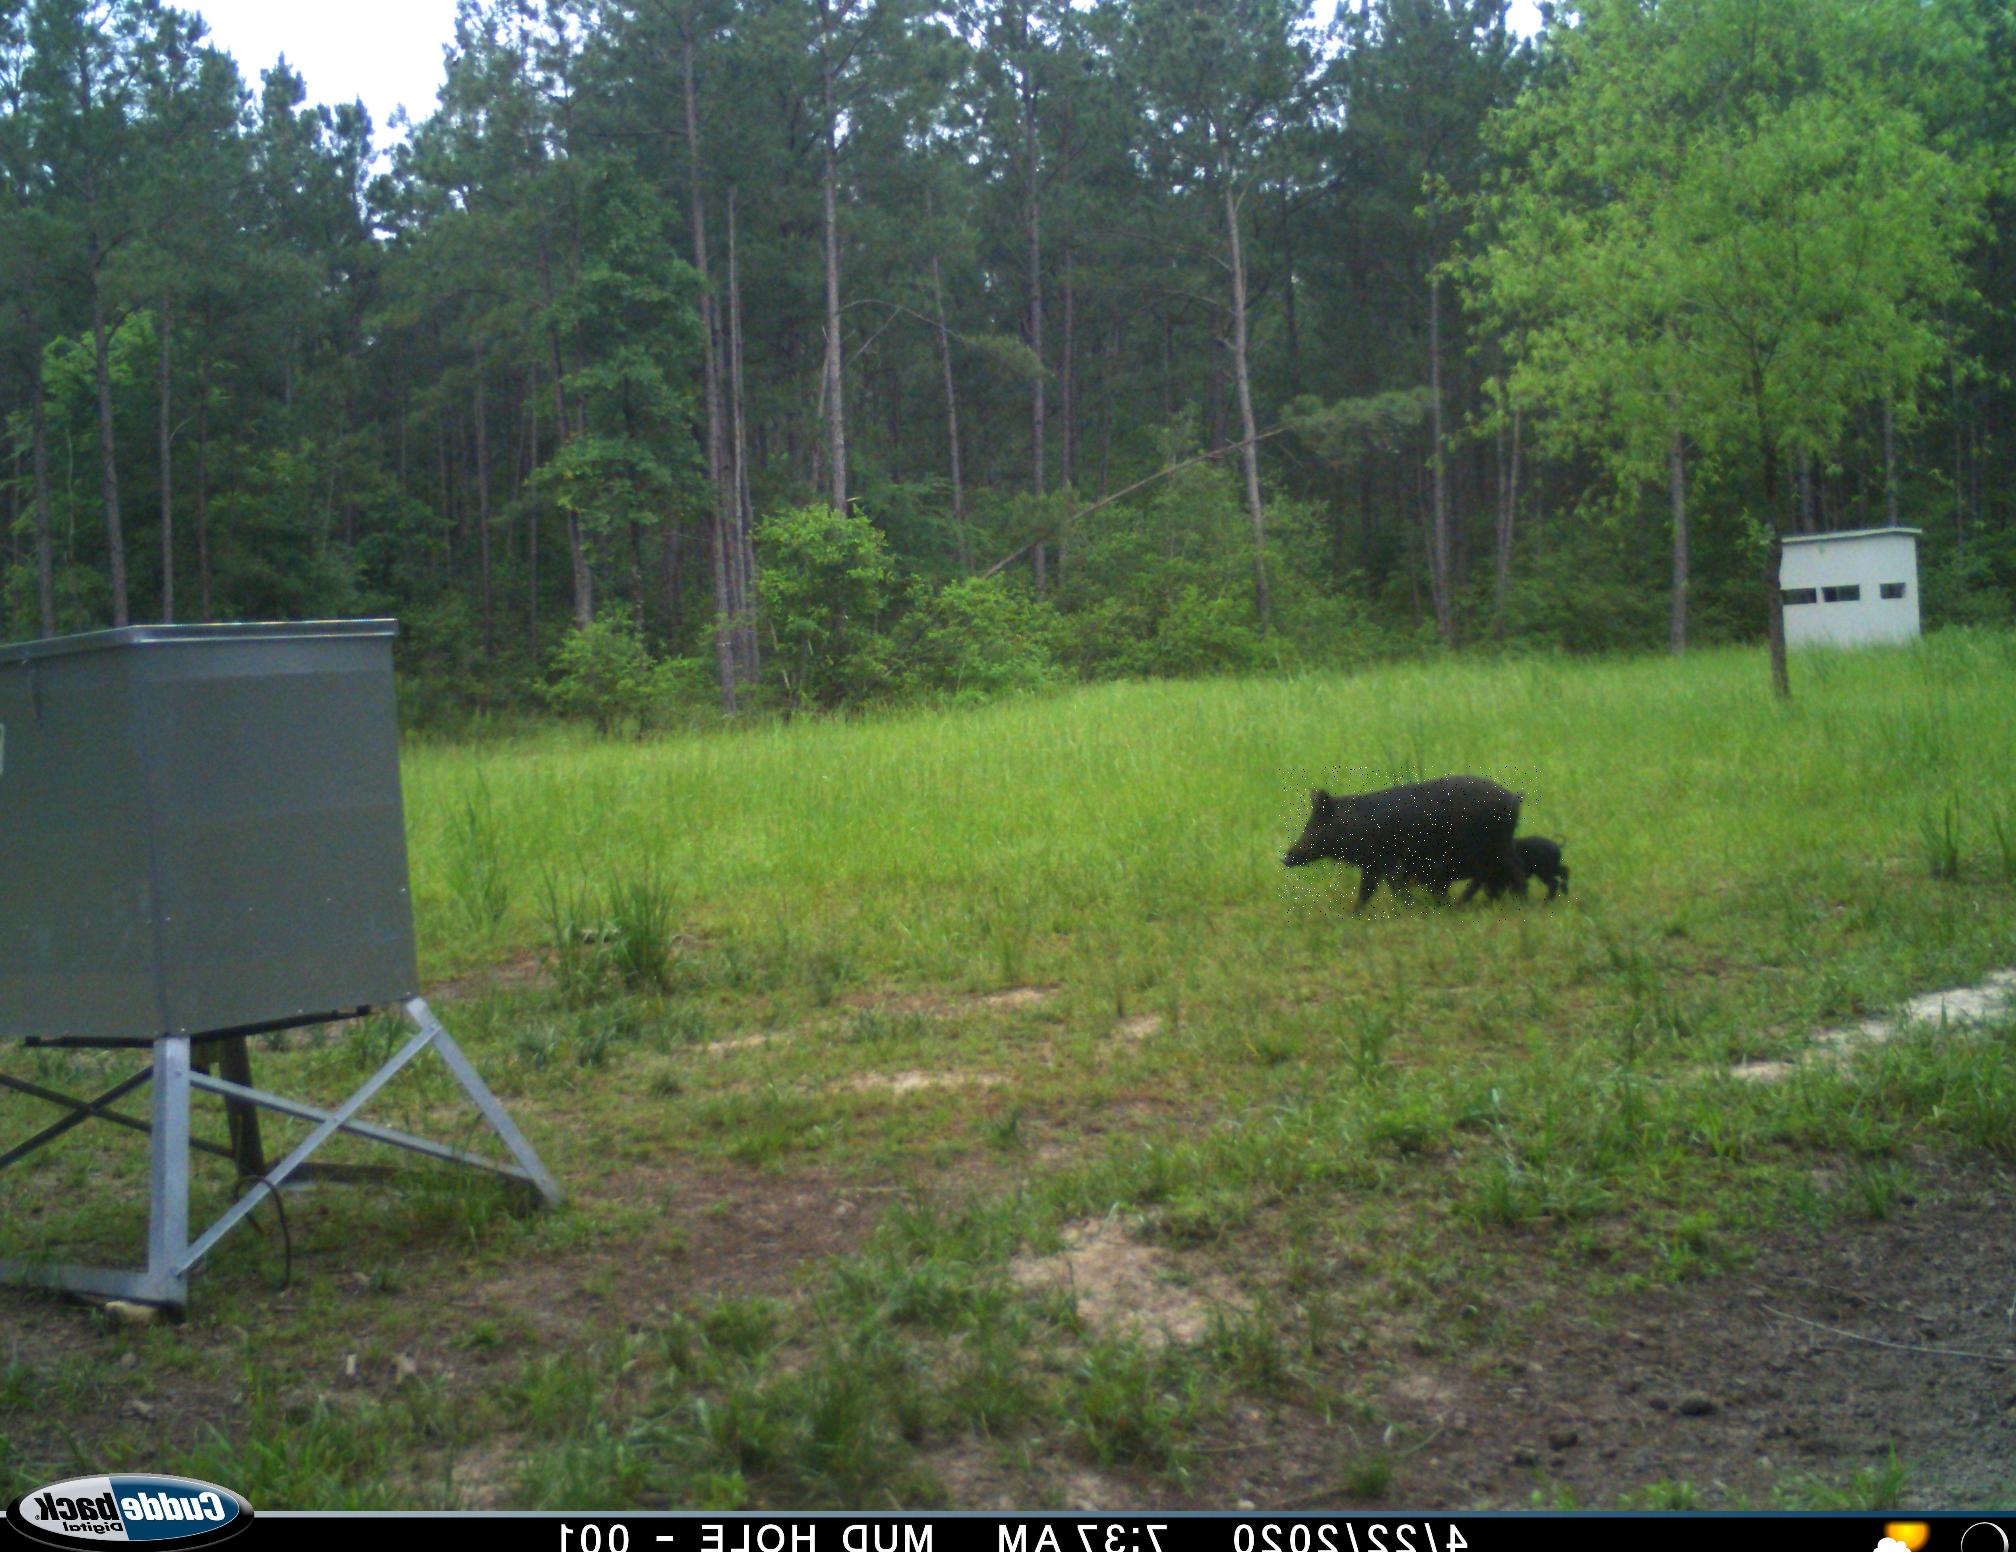Hog: (1278, 766, 1542, 923), (1455, 822, 1578, 919)
